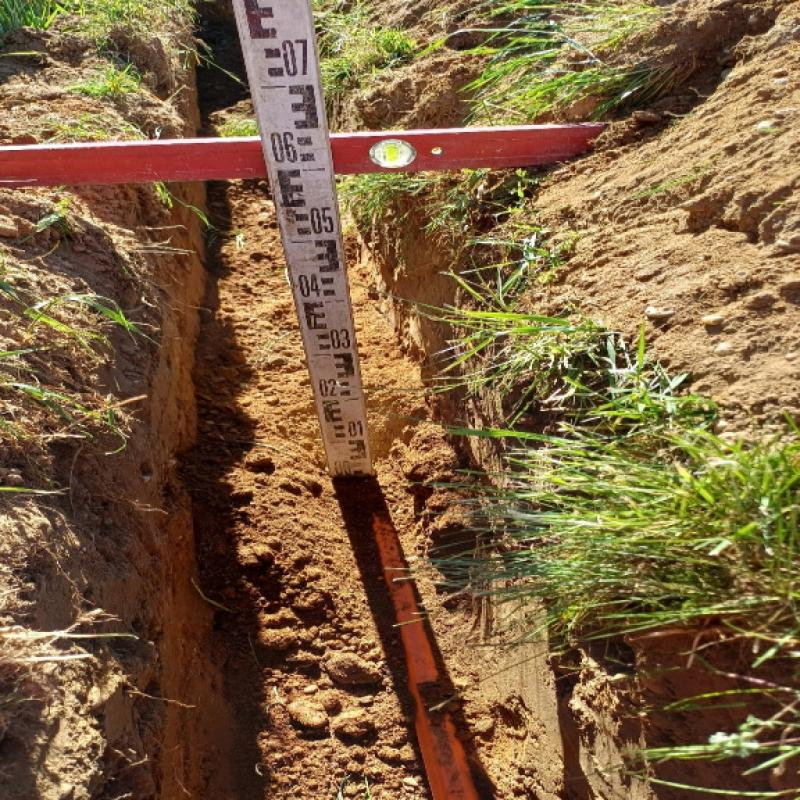Orang-Speednetrohrchen: (369, 517, 483, 800)
